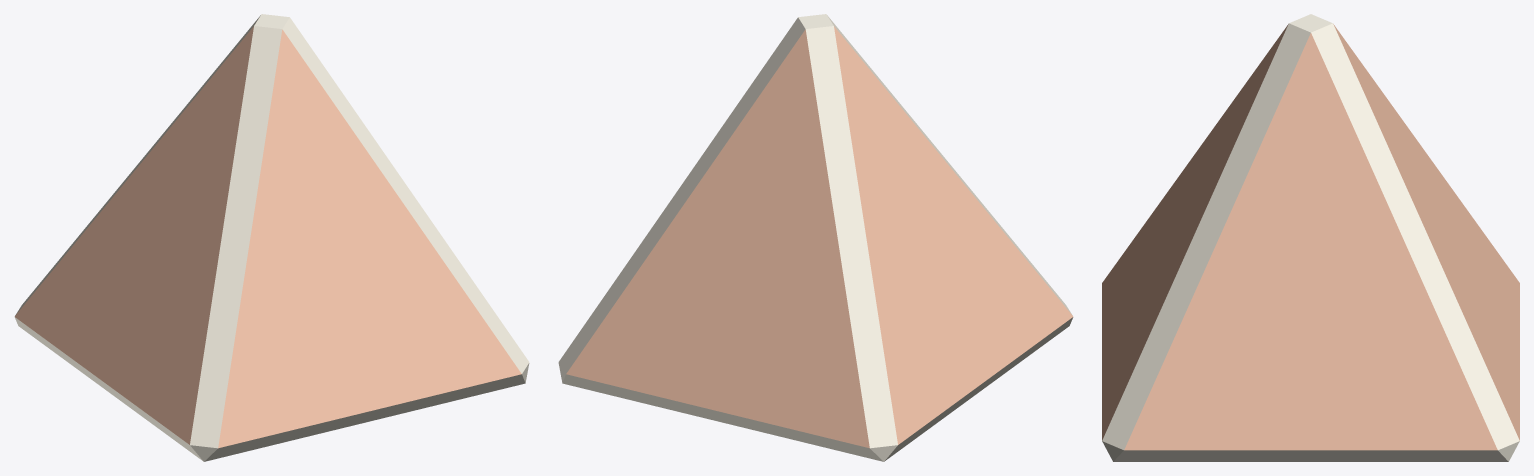
The picture shows the model from 3 angles, left to right: view 1: azimuth 30°, elevation 25°; view 2: azimuth 150°, elevation 25°; view 3: azimuth 270°, elevation 25°; orthographic projection. The views are drawn at different scales.
Visible parts, largest first — view 1: R4B_Pyramid_LOD1; view 2: R4B_Pyramid_LOD1; view 3: R4B_Pyramid_LOD1.
Boxes of the visible parts, x1=… form: R4B_Pyramid_LOD1: x1=14, y1=14, x2=529, y2=461; R4B_Pyramid_LOD1: x1=558, y1=14, x2=1073, y2=461; R4B_Pyramid_LOD1: x1=1102, y1=14, x2=1519, y2=461.
Bounding box in the file's own units: 0.4985 × 0.4674 × 0.4985.
